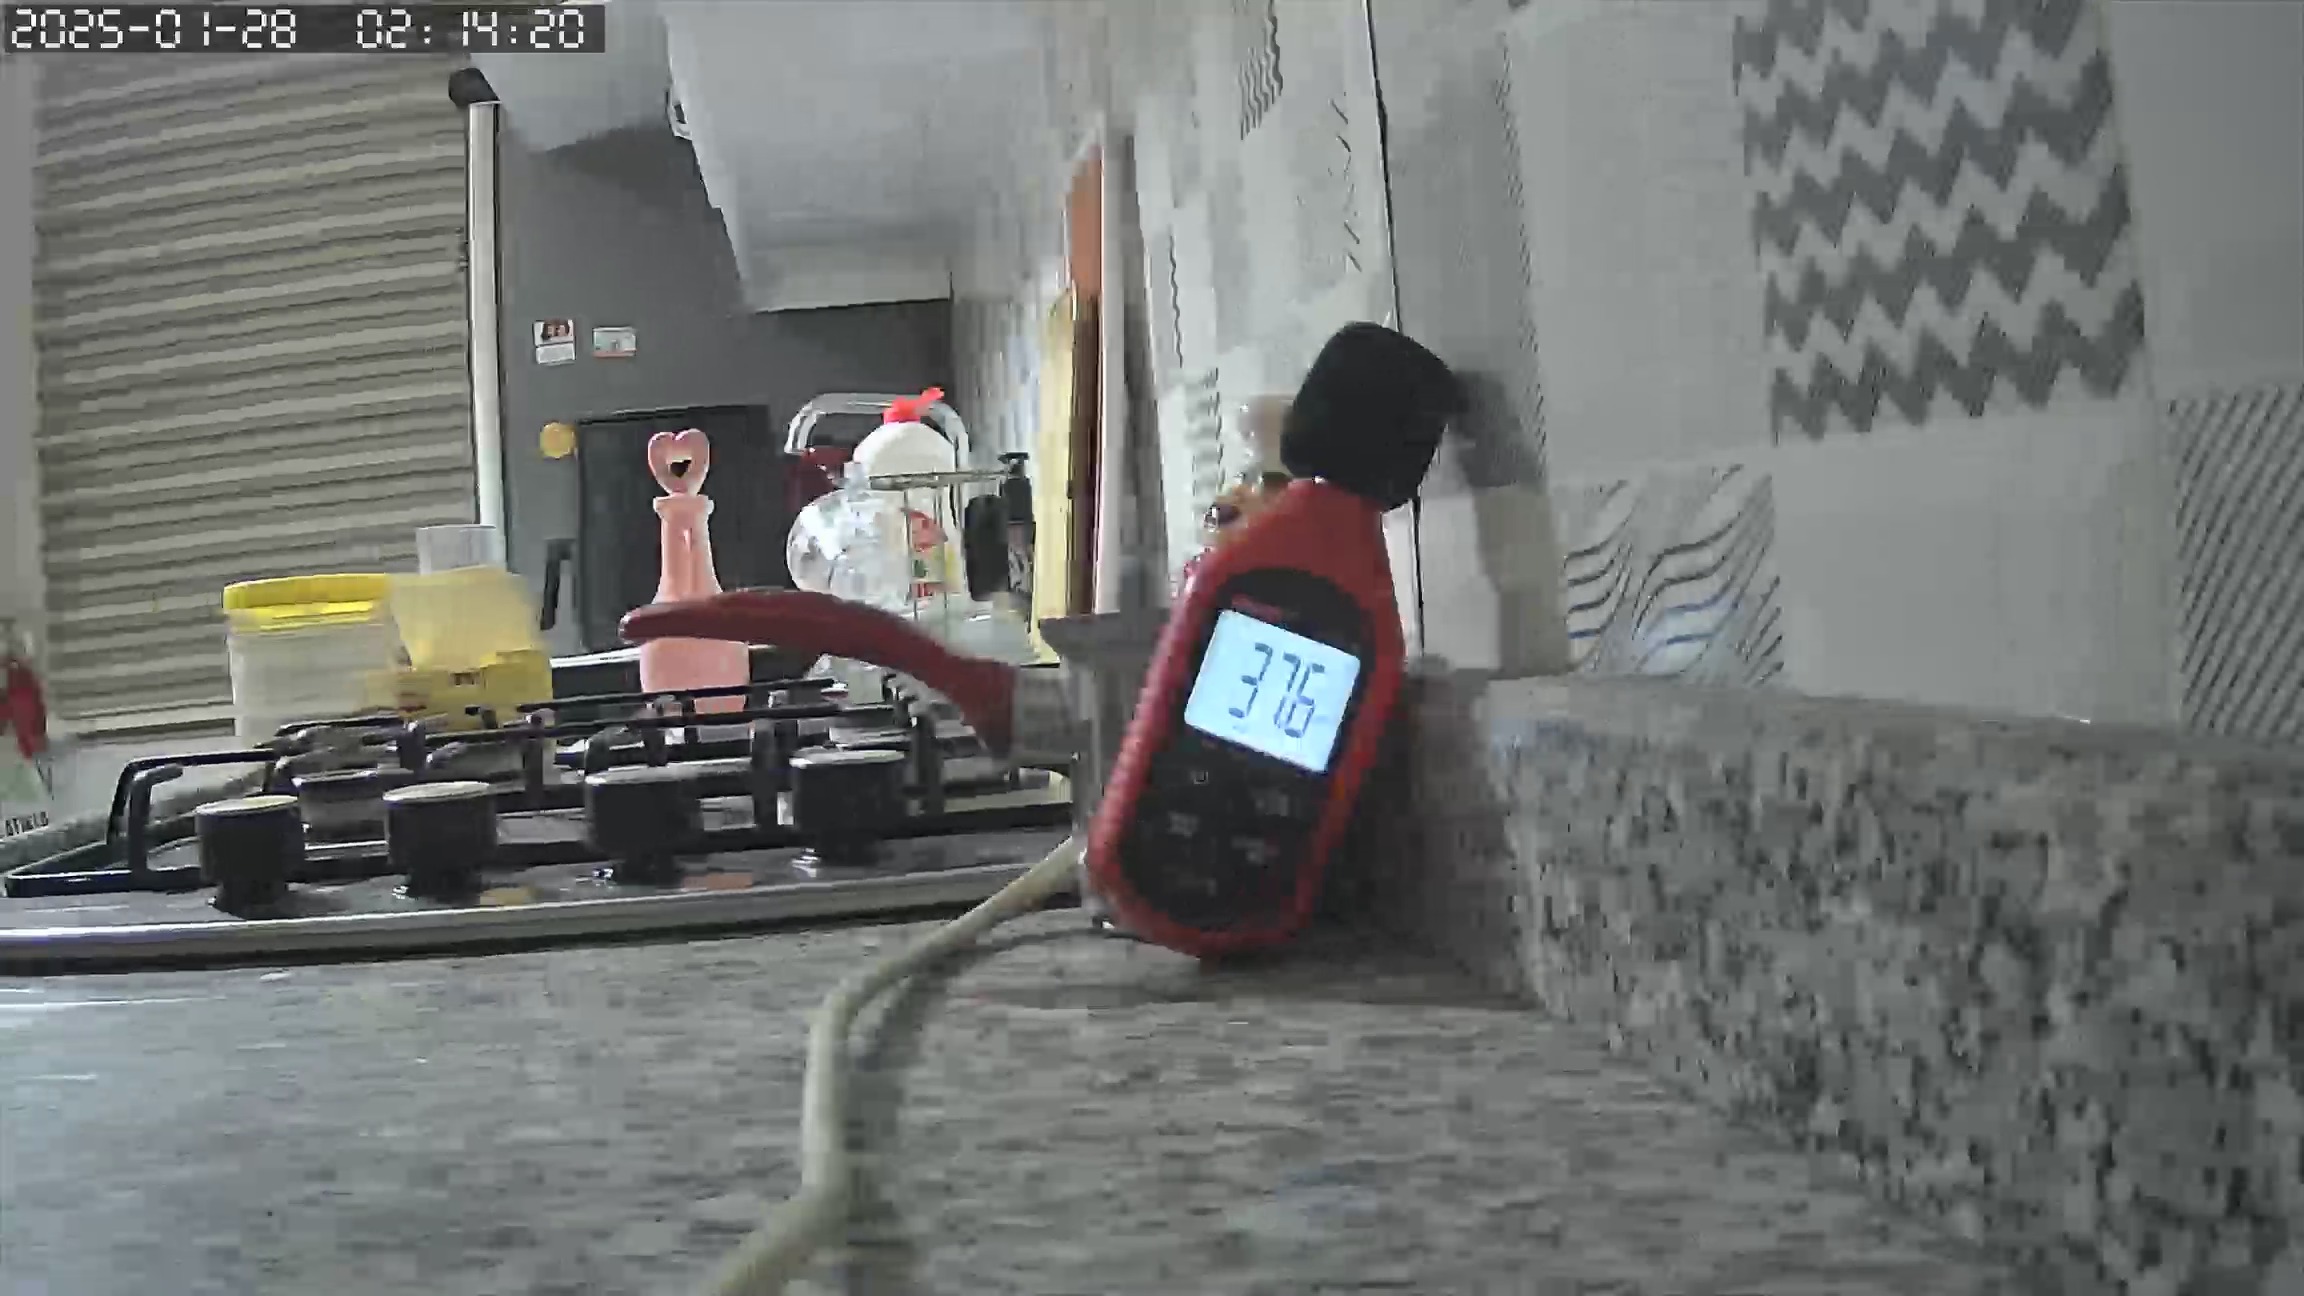screen: (1180, 611, 1366, 772)
